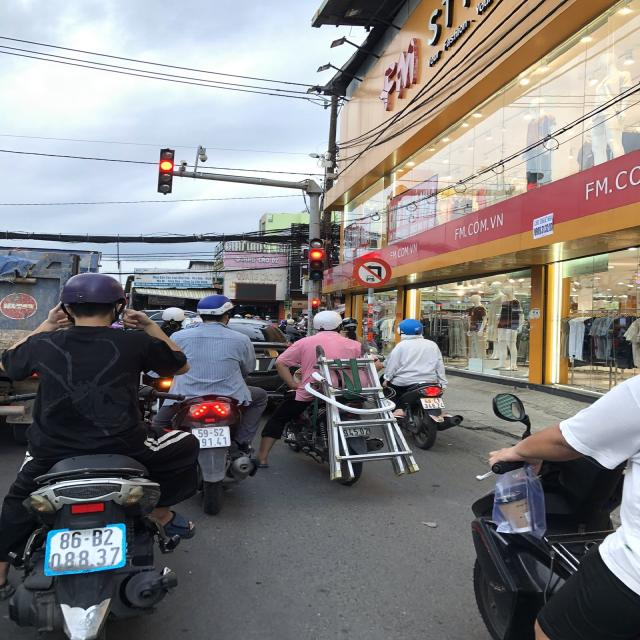Bien bao cam xe o to re trai: (351, 252, 394, 291)
